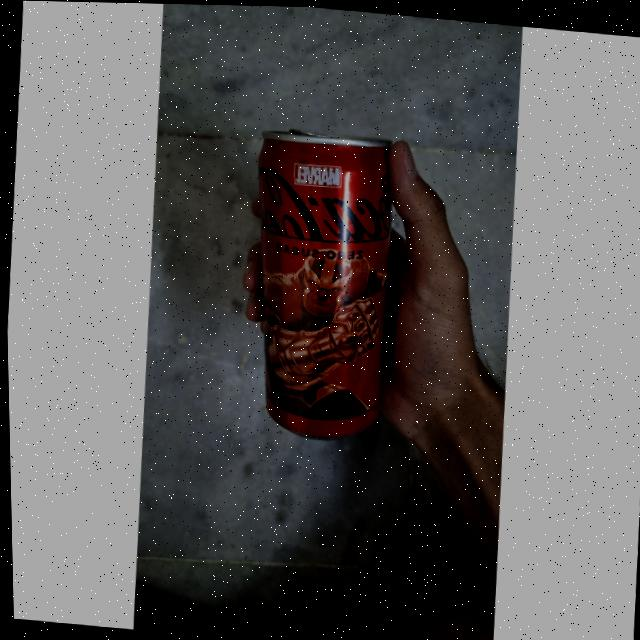Coca Cola Zero: (232, 128, 395, 433)
